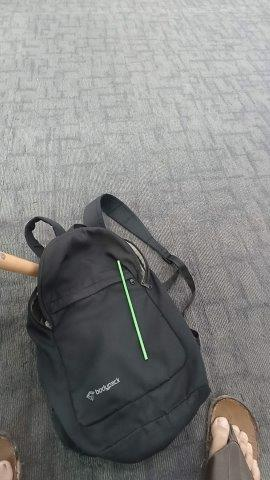sedotan: (117, 260, 148, 361)
